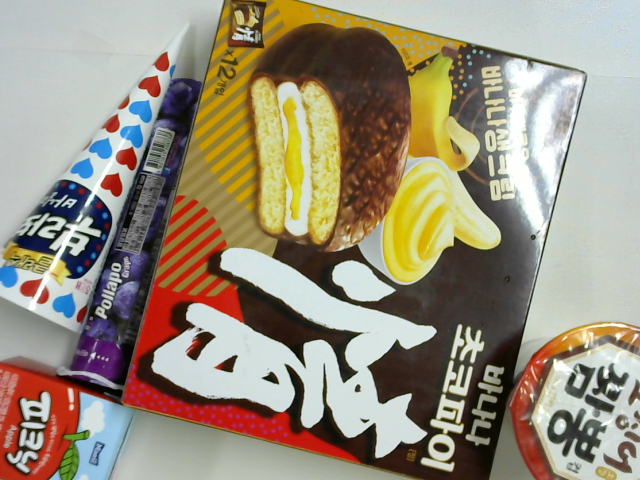Bravo_Cone_(Banila)_CVS: (3, 20, 187, 326)
Choco_Pie_Banana: (133, 4, 588, 480)
Ojjam: (505, 322, 640, 478)
Picnic_Apple: (5, 350, 131, 480)
Polapo_Grape: (71, 82, 205, 394)
